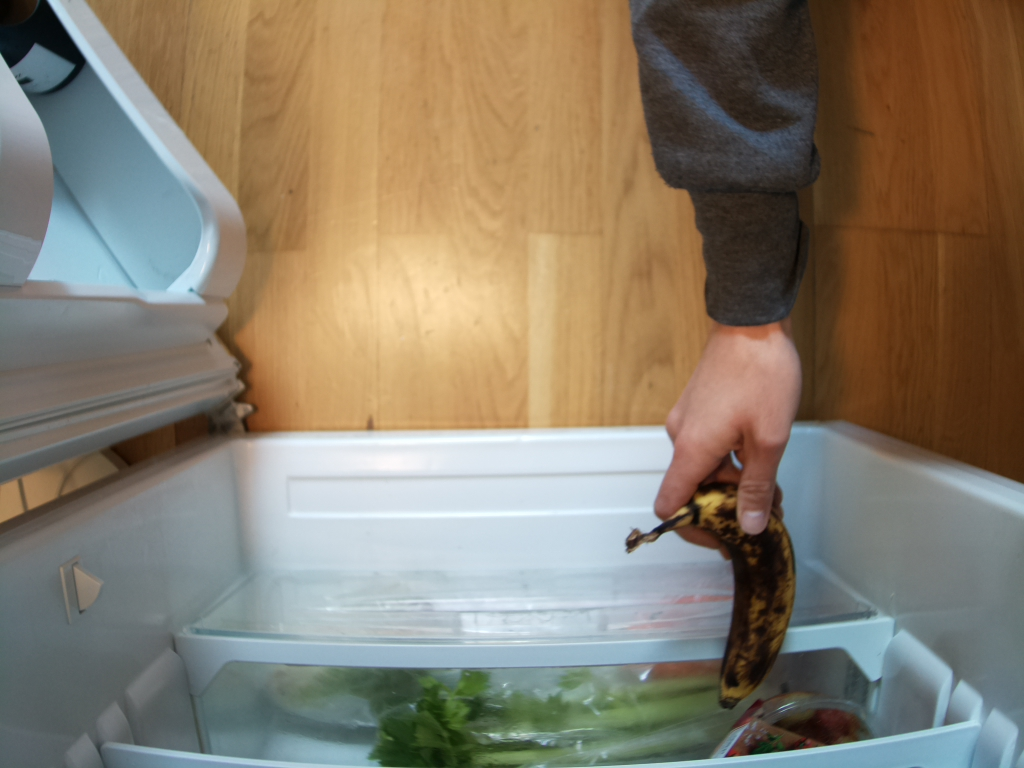banana-overripe: (626, 484, 798, 705)
